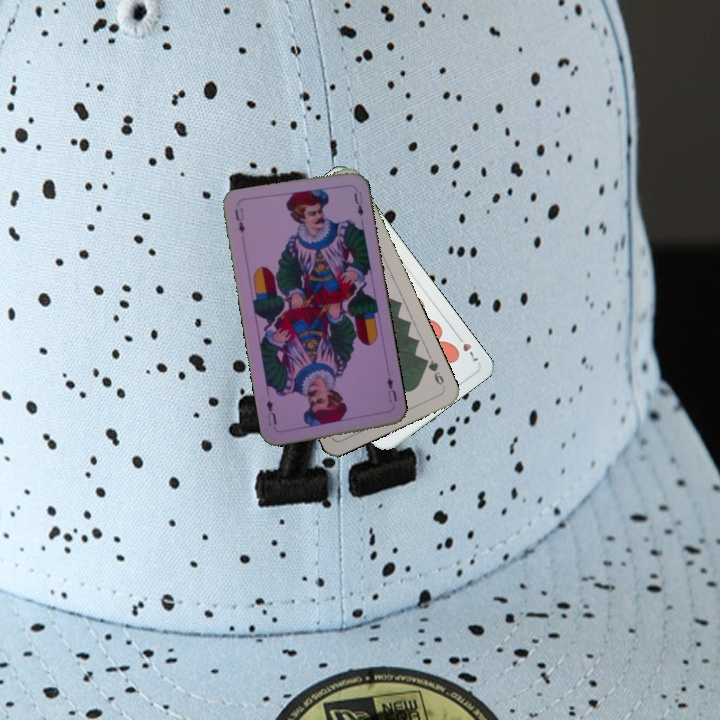EU: (383, 373, 400, 405), (231, 204, 247, 236)
G9: (420, 354, 447, 390)
H7: (452, 330, 481, 364)
